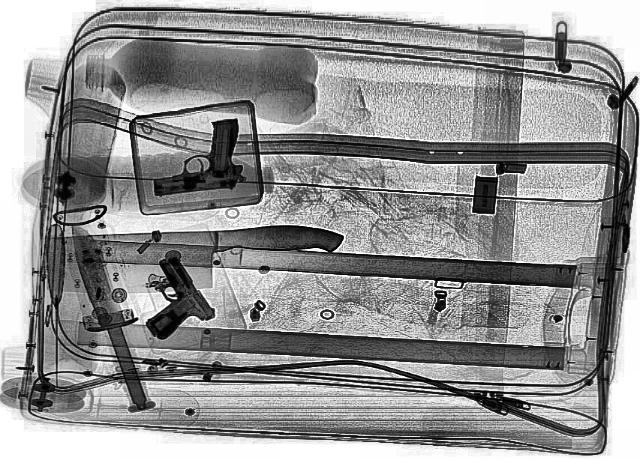Gun: (107, 254, 223, 340), (135, 117, 253, 197)
Knife: (37, 221, 349, 297), (59, 223, 154, 409)
